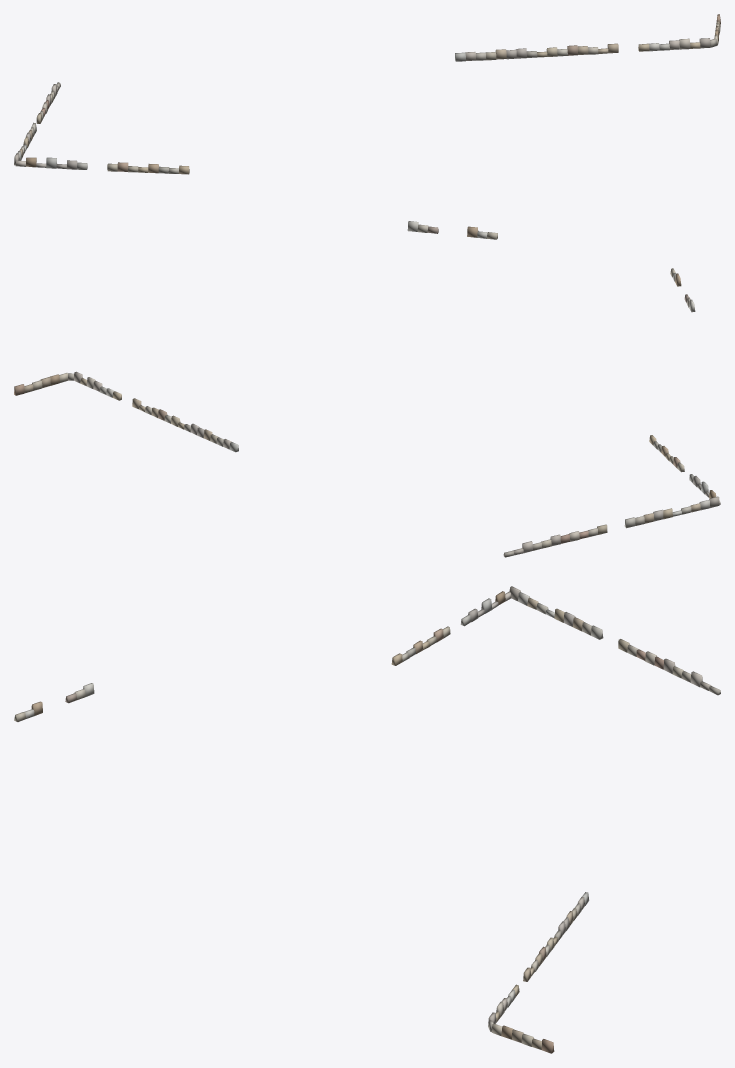
File: farm_2_12_far.glb
3 views of the same model, one above another, from view 1: azimuth 30°, elevation 25°; view 2: azimuth 150°, elevation 25°; view 3: azimuth 270°, elevation 25° (orthographic). The views are drawn at different scales.
Visible parts, largest first — view 1: geometry_0; view 2: geometry_0; view 3: geometry_0.
Boxes of the visible parts, x1,y1,x2,y2 form: geometry_0: (14, 14, 720, 239); geometry_0: (14, 268, 720, 557); geometry_0: (14, 586, 720, 1053).
Size of the model in its own units: 128 by 12.82 by 94.61.
